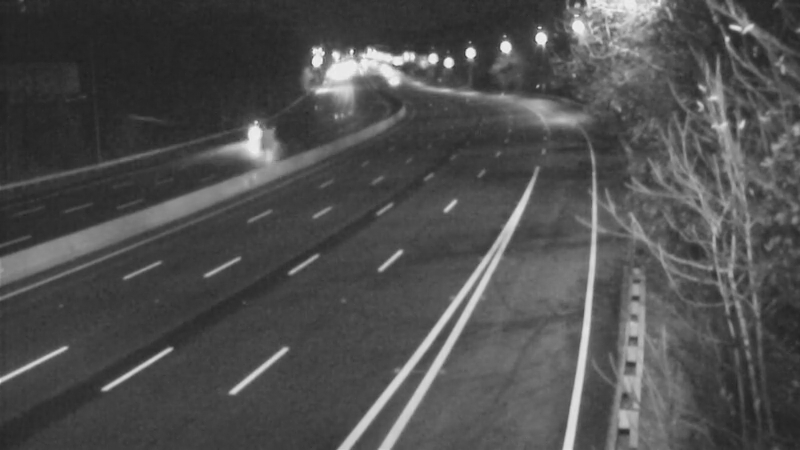vehicle: (367, 56, 417, 106), (227, 113, 277, 163)
